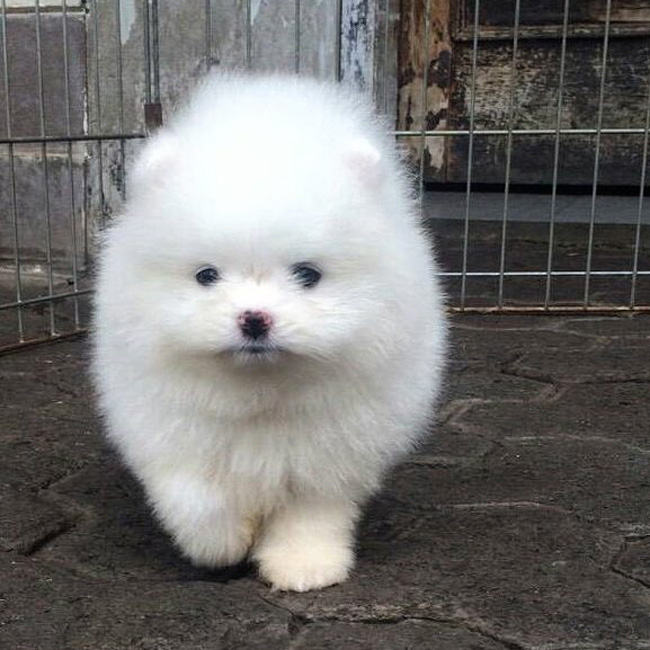pomeranian: (76, 51, 473, 590)
